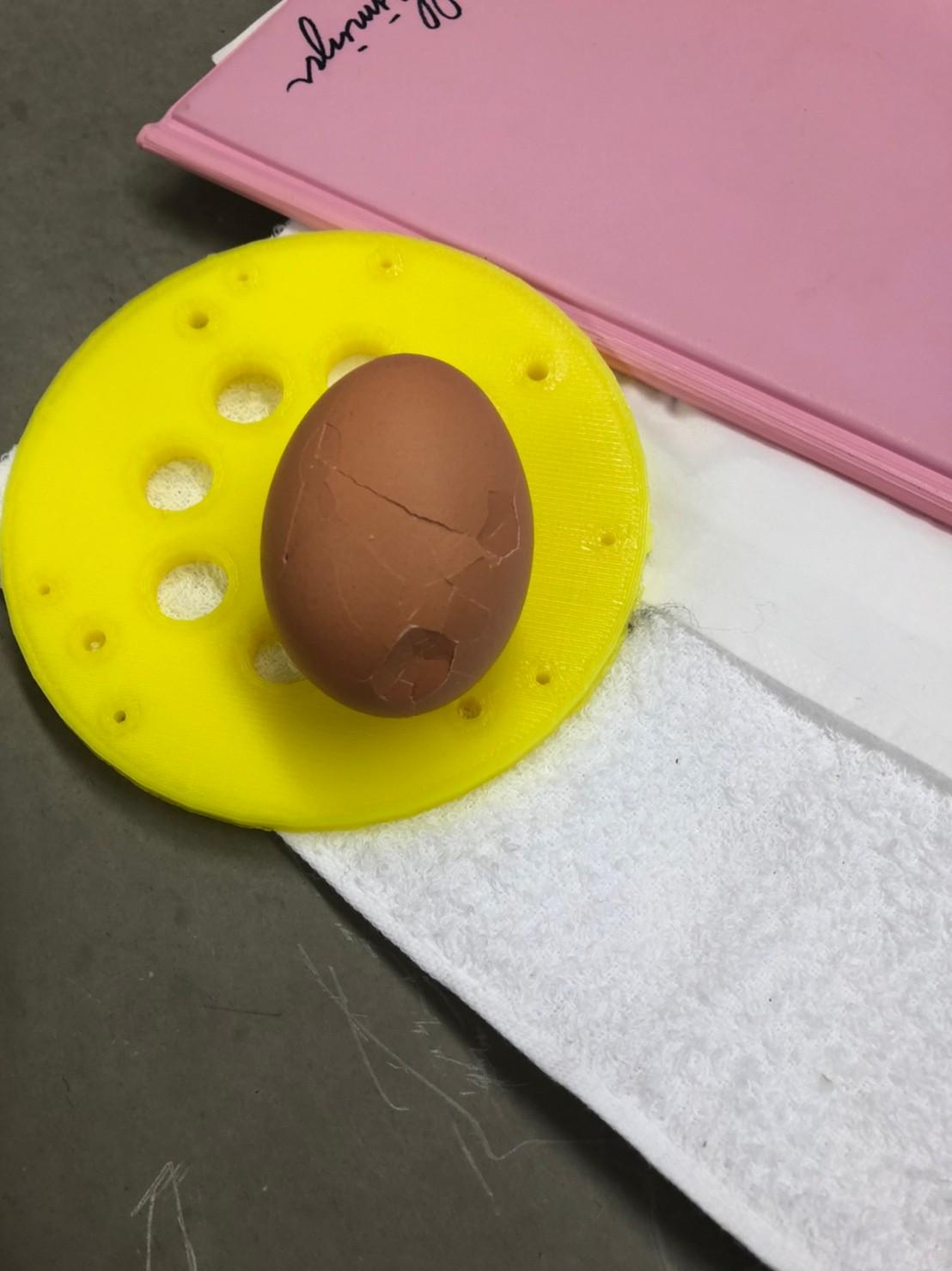egg: (250, 348, 537, 732)
